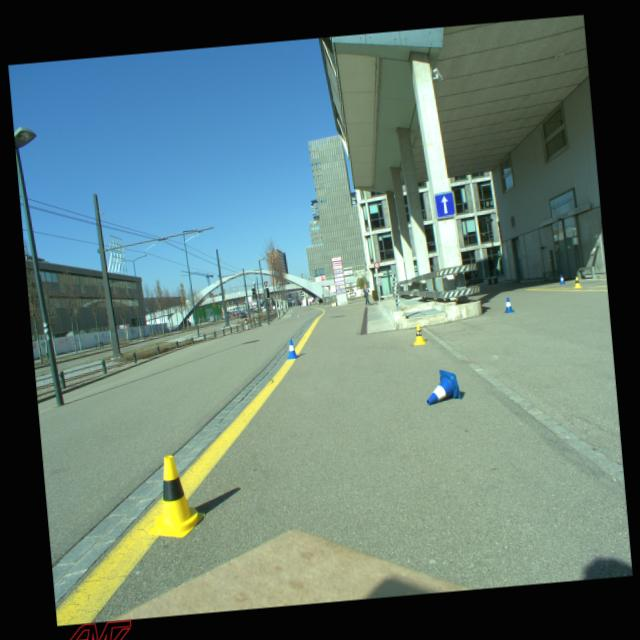blue_cone: (424, 368, 462, 405), (284, 338, 300, 358), (502, 296, 516, 312), (558, 274, 566, 284)
yellow_cone: (142, 453, 206, 540), (411, 323, 427, 345), (572, 276, 582, 288)
